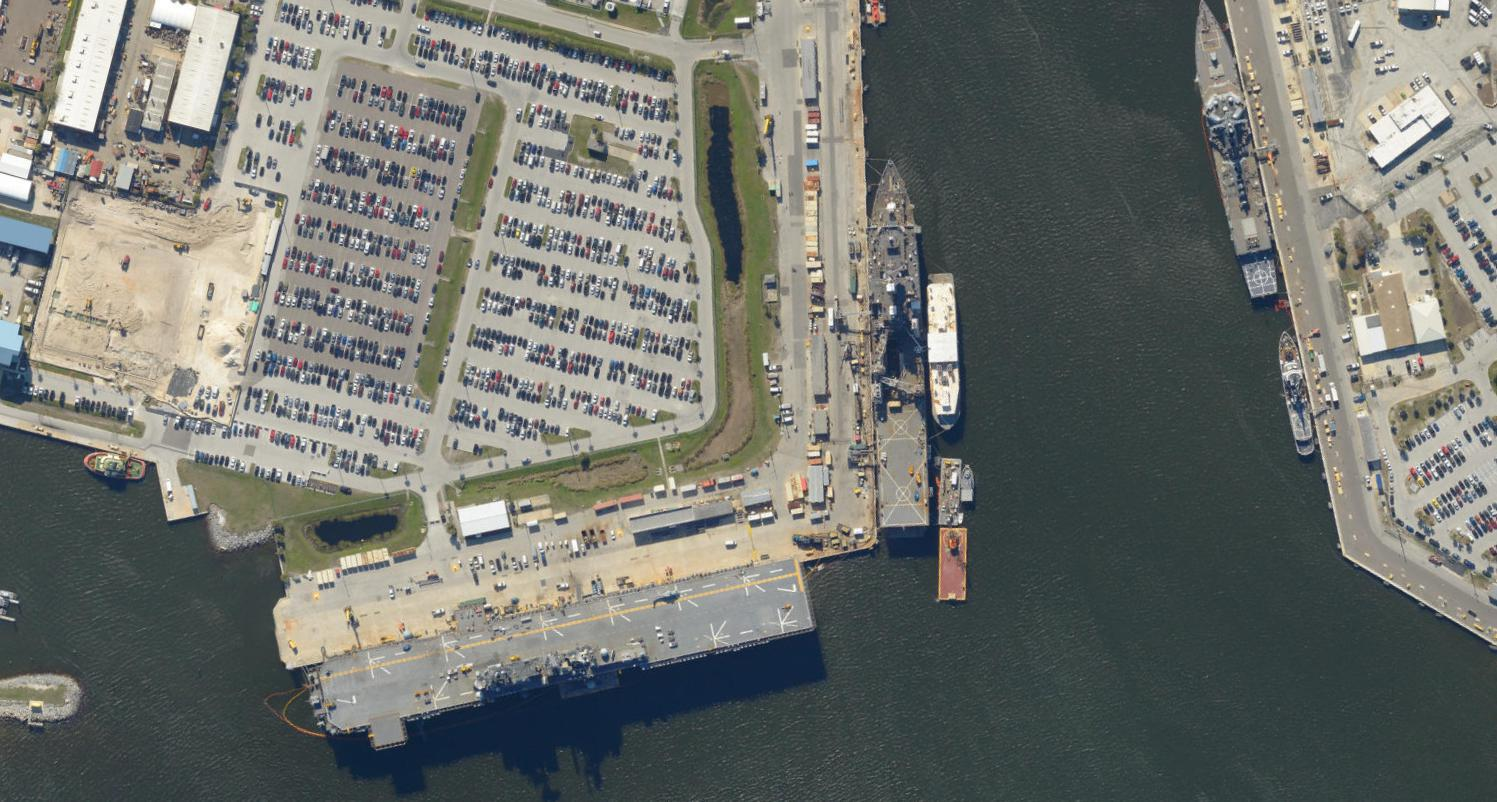amphiby: (861, 142, 942, 536)
pha: (303, 546, 824, 764)
